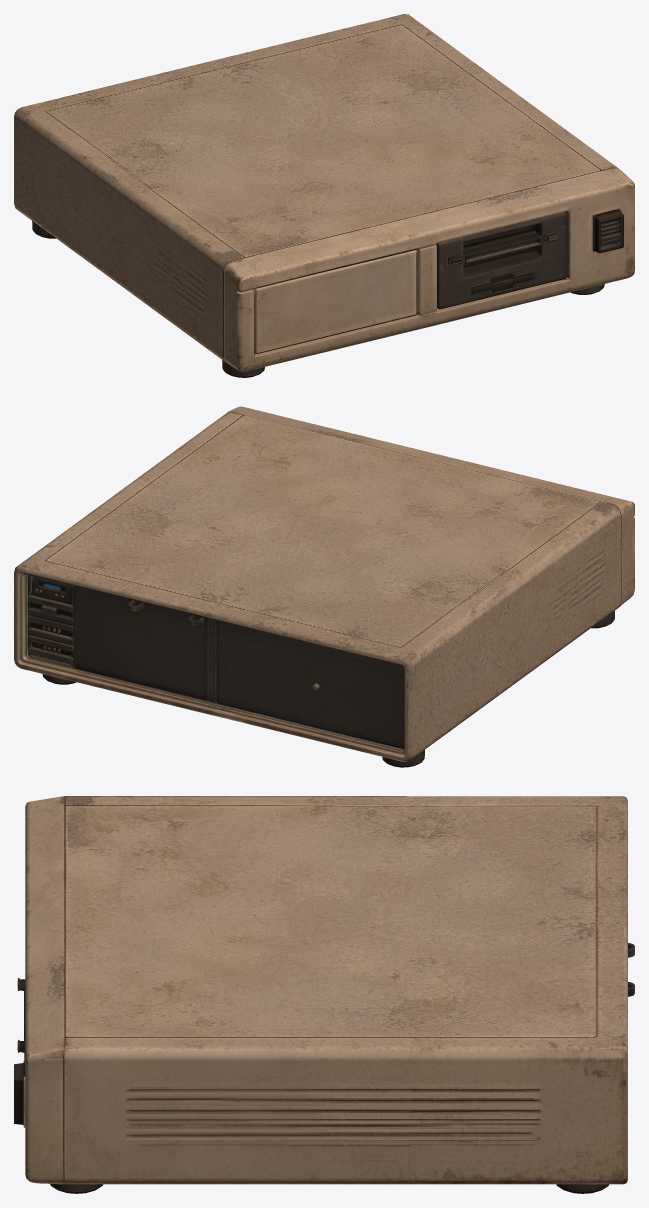
File: Computer_Drive.fbx
3 renders of one model, top to bottom at view 1: azimuth 30°, elevation 25°; view 2: azimuth 150°, elevation 25°; view 3: azimuth 270°, elevation 25°, orthographic. The views are drawn at different scales.
Parts seen in each view (by area): view 1: tripo_5f7ca97d_ea34_4379_b58b_b961a158904f; view 2: tripo_5f7ca97d_ea34_4379_b58b_b961a158904f; view 3: tripo_5f7ca97d_ea34_4379_b58b_b961a158904f.
Boxes of the visible parts, x1,y1,x2,y2 form: tripo_5f7ca97d_ea34_4379_b58b_b961a158904f: (14, 14, 634, 377); tripo_5f7ca97d_ea34_4379_b58b_b961a158904f: (14, 406, 634, 767); tripo_5f7ca97d_ea34_4379_b58b_b961a158904f: (14, 796, 634, 1193).
Size of the model in its own units: 0.9849 by 0.2798 by 0.9995.
Materials: 1 (1 with a texture image).
